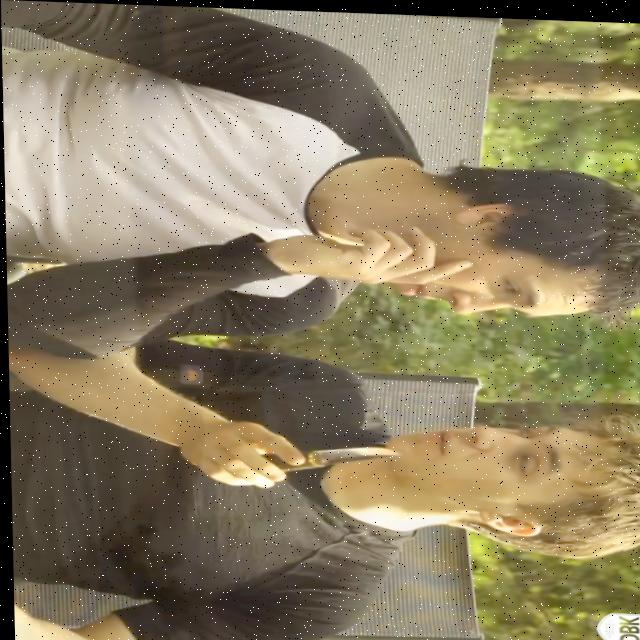knife: (299, 440, 401, 469)
